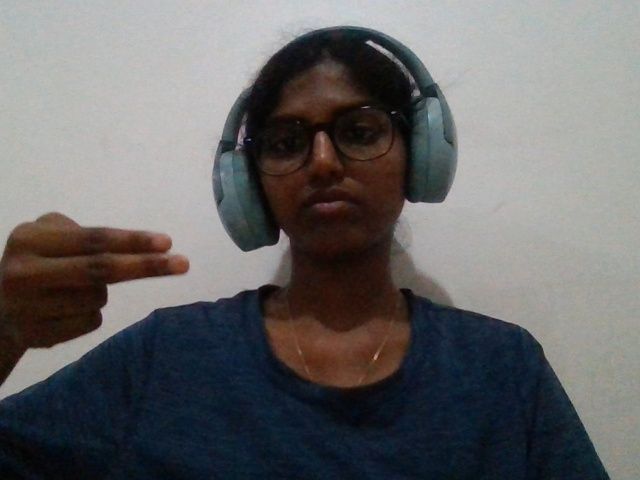H: (1, 185, 225, 386)
